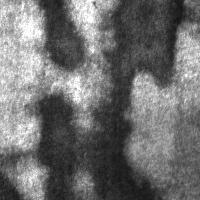patches: (101, 100, 200, 200), (85, 70, 147, 200), (105, 1, 183, 86), (34, 91, 83, 200), (41, 1, 83, 73), (1, 154, 22, 198)
